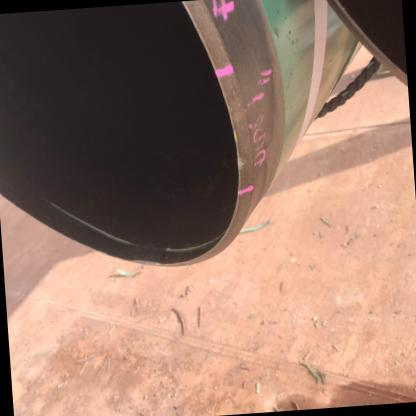Bevel: (230, 126, 248, 175)
